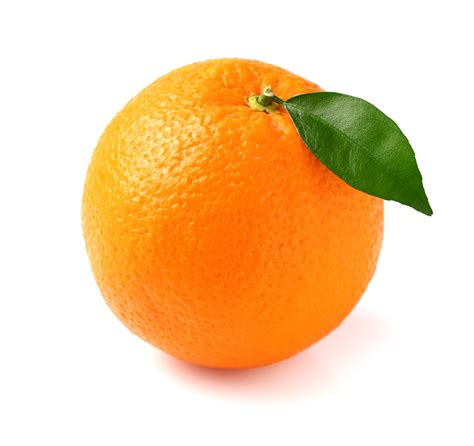orange: (78, 56, 391, 375)
